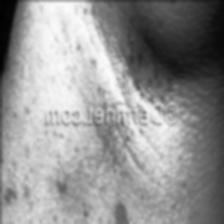Unclassified: (0, 149, 149, 224), (44, 23, 163, 94)
